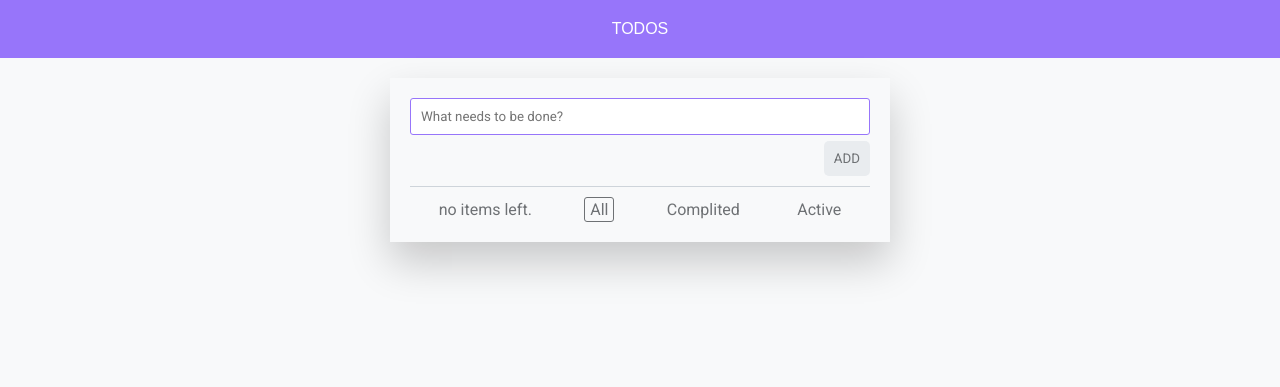
<App /> › todo toggle function › toogle todo
This screenshot has width=1280, height=387.
Type "test" into the field with placeholder "What needs to be done?".
click(640, 116); type("test")  # box [410, 98, 870, 135]
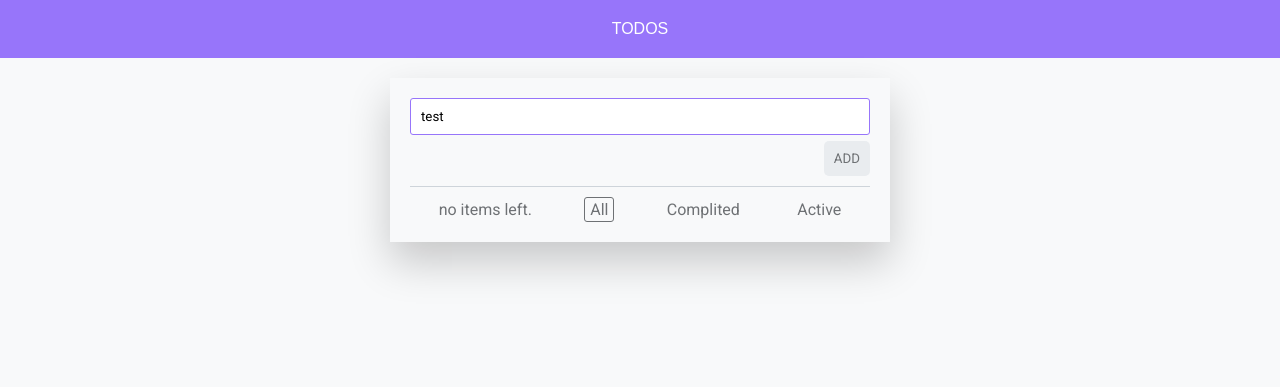
Click the button "ADD".
click(847, 158)  # box [824, 141, 870, 176]
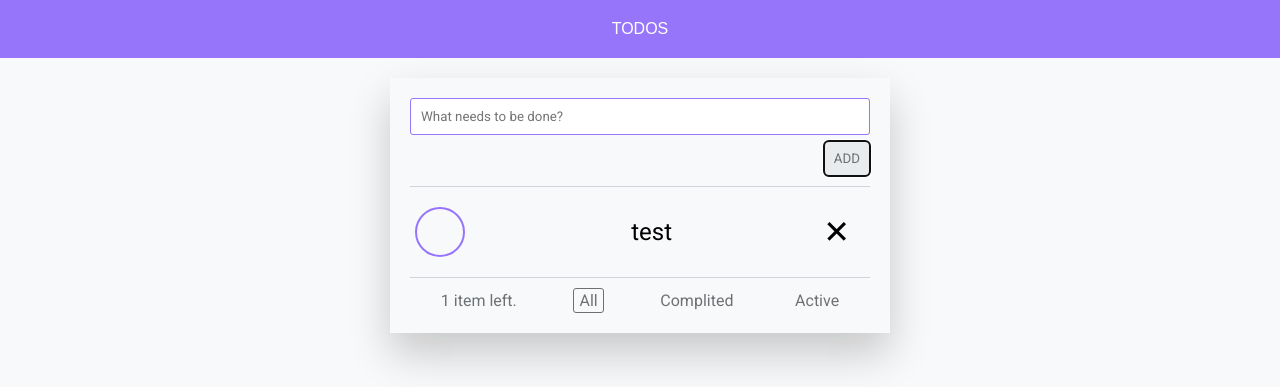
Click the element with test id "toggle".
click(440, 232)  # box [415, 207, 465, 257]
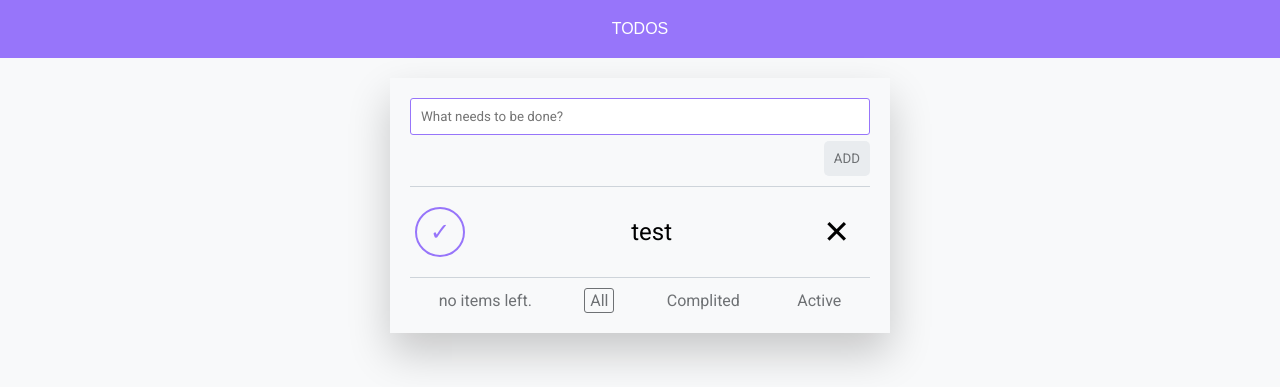
Check: the checkbox with test id "checkbox" is checked, box [430, 207, 480, 257]
